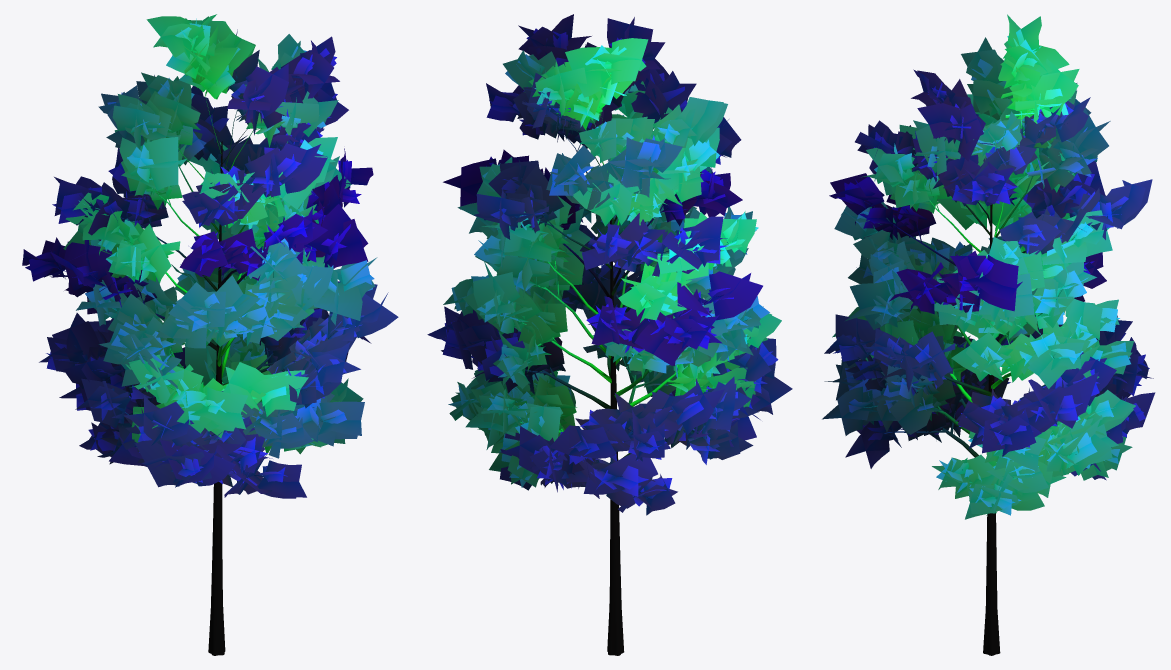
The model's file is cP_Tree07.fbx.
3 renders of one model, left to right at view 1: azimuth 30°, elevation 25°; view 2: azimuth 150°, elevation 25°; view 3: azimuth 270°, elevation 25°, orthographic.
Parts seen in each view (by area): view 1: cP_Tree07_LOD0; view 2: cP_Tree07_LOD0; view 3: cP_Tree07_LOD0.
Boxes of the visible parts, box(x1,y1,x2,y2) form: cP_Tree07_LOD0: box(22, 14, 398, 655); cP_Tree07_LOD0: box(427, 14, 792, 655); cP_Tree07_LOD0: box(822, 14, 1155, 655).
Size of what is drawn, in the model's own units: 699 by 1300 by 638.
